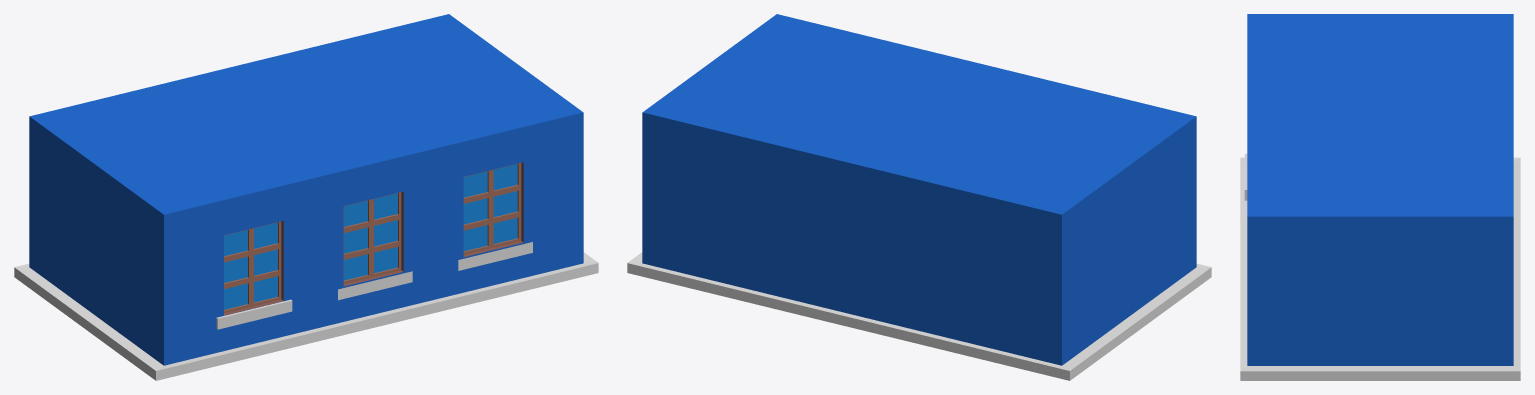
File: blue.fbx
3 views of the same model, side by side, from view 1: azimuth 30°, elevation 25°; view 2: azimuth 150°, elevation 25°; view 3: azimuth 270°, elevation 25° (orthographic).
Visible parts, largest first — view 1: mavi; view 2: mavi; view 3: mavi.
Boxes of the visible parts, x1,y1,x2,y2 form: mavi: (14,14,598,380); mavi: (627,14,1211,380); mavi: (1240,14,1520,380).
Bounding box in the file's own units: 625 × 217 × 347.
